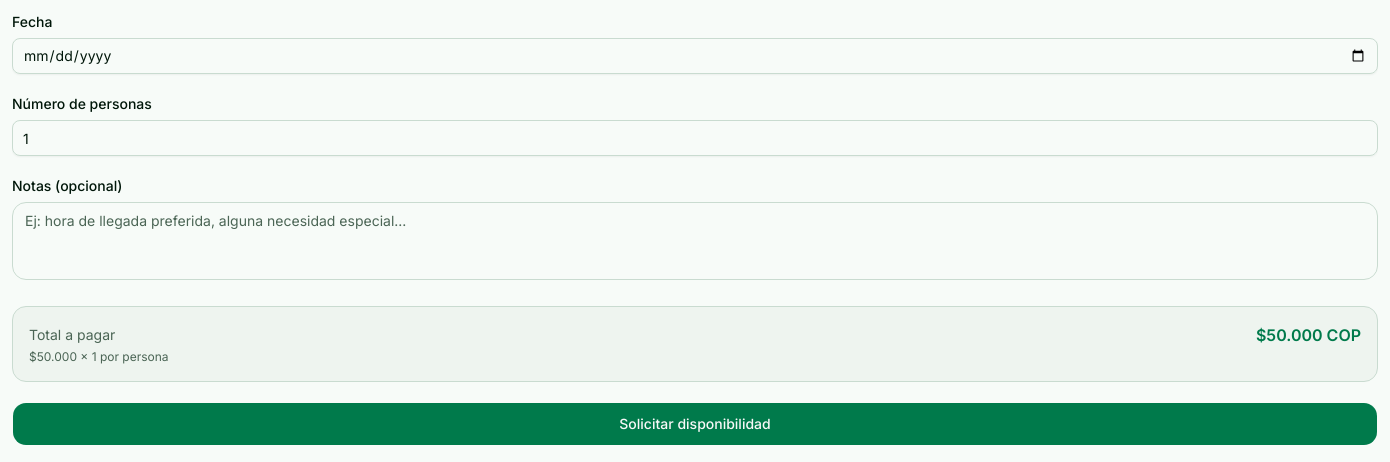
Scenario: PackagePrereservaForm — form fields › caps the entered quantity at the package capacity
This screenshot has width=1390, height=462.
Replace the text in the number field labelled "Número de personas" with "9": (695, 138) [12,120,1378,156]
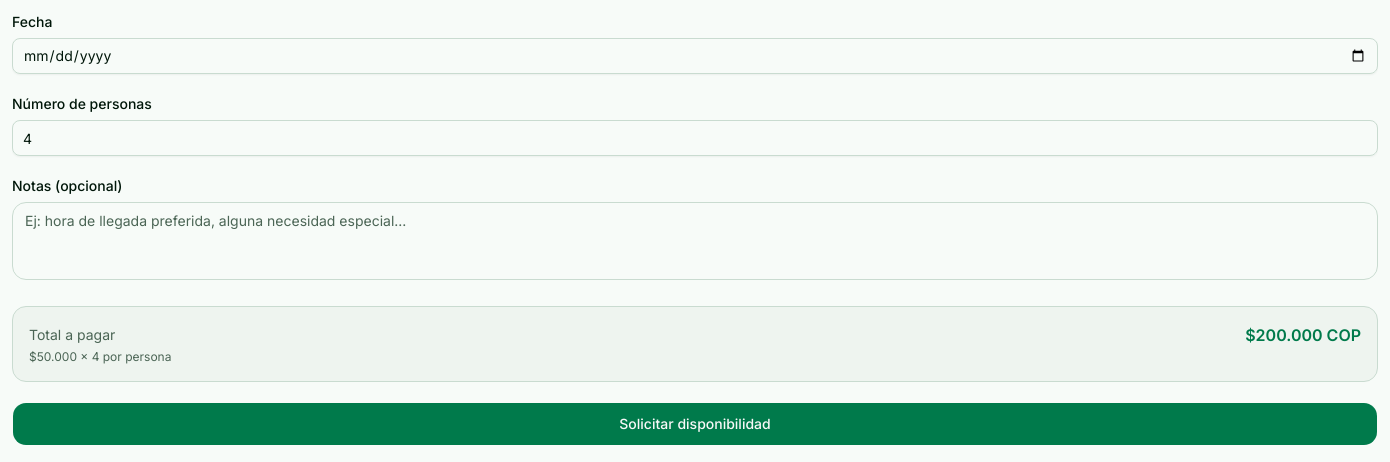
Check: the number field labelled "Número de personas" holds "4", box [12,120,1378,156]
